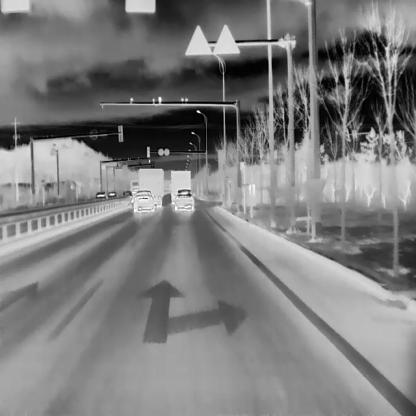car: (133, 190, 154, 212), (174, 188, 194, 210), (94, 191, 108, 199), (122, 190, 133, 197), (107, 191, 117, 197)
truck: (139, 168, 161, 206), (170, 170, 190, 203), (131, 178, 139, 203)
